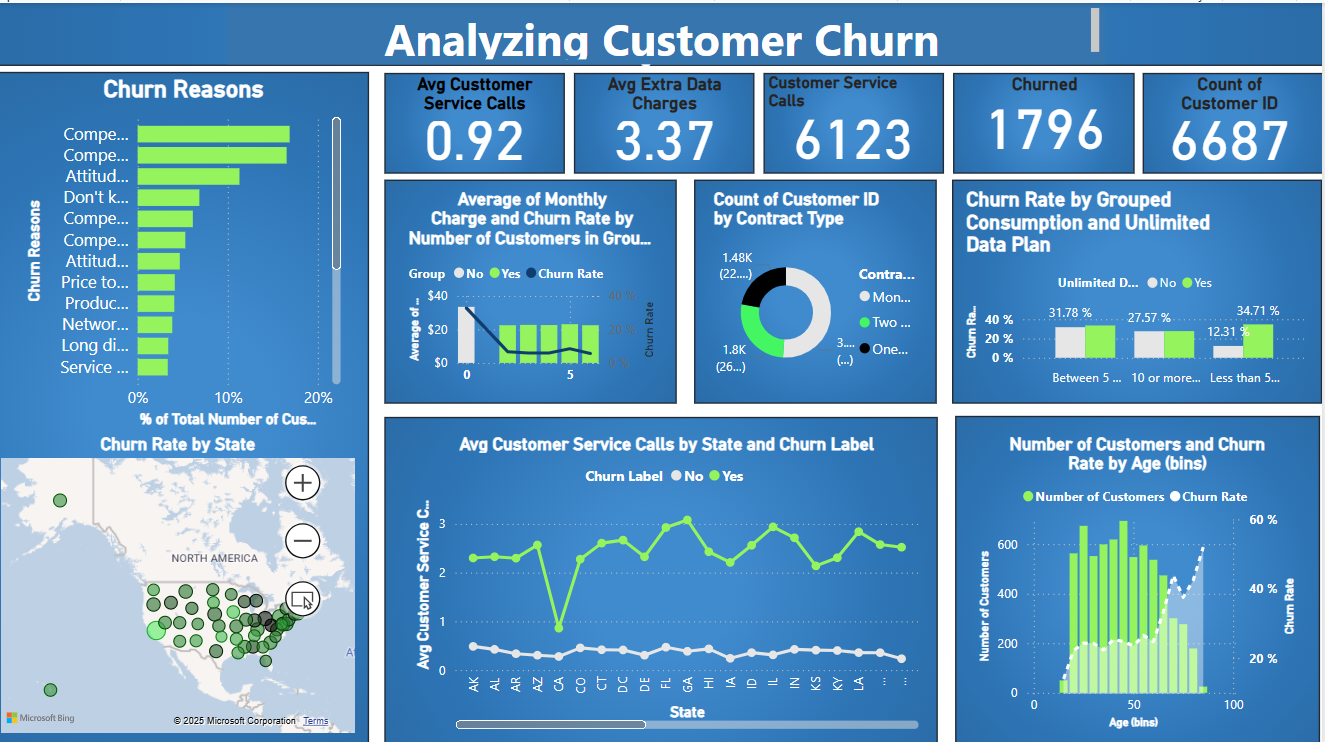

This screenshot's page, from the dashboard's own definition file:
{"tool":"powerbi","page":{"name":"Page 1","canvas":[1280,720],"ordinal":0},"visuals":[{"type":"clusteredBarChart","title":"Churn Reasons","fields":{"Category":["Databel - Data.Churn Reason"],"Y":["CountNonNull(Databel - Data.Number of Customers in Group)"]},"box":[24.1,68.8,313.7,346.2],"z":0},{"type":"clusteredColumnChart","fields":{"Category":["Databel - Data.Grouped Consumption"],"Y":["Databel - Data.Churn Rate"],"Series":["Databel - Data.Unlimited Data Plan"]},"box":[931.4,178.6,340.2,199.1],"z":1000},{"type":"lineStackedColumnComboChart","fields":{"Category":["Databel - Data.Age (bins)"],"Y":["Databel - Data.Number of costumers"],"Y2":["Databel - Data.Churn Rate"]},"box":[943.4,415,316.1,290.8],"z":2000},{"type":"lineChart","fields":{"Category":["Databel - Data.State"],"Y":["Databel - Data.Avg Customer Service Calls"],"Series":["Databel - Data.Churn Label"]},"box":[399.3,415,495.8,290.8],"z":3000},{"type":"lineStackedColumnComboChart","fields":{"Category":["Databel - Data.Number of Customers in Group"],"Y":["Avg(Databel - Data.Monthly Charge)"],"Series":["Databel - Data.Group"],"Y2":["Databel - Data.Churn Rate"]},"box":[393.3,178.6,248.5,199.1],"z":4000},{"type":"donutChart","fields":{"Y":["Count(Databel - Data.Customer ID)"],"Category":["Databel - Data.Contract Type"]},"box":[687.7,178.6,209.9,199.1],"z":5000},{"type":"card","title":"Count of Customer ID","fields":{"Values":["Count(Databel - Data.Customer ID)"]},"box":[1101.5,67.6,178.6,96.5],"z":6000},{"type":"card","title":"Churned","fields":{"Values":["Sum(Databel - Data.Churned)"]},"box":[922.9,67.6,178.6,96.5],"z":7000},{"type":"card","title":"Customer Service Calls","fields":{"Values":["Sum(Databel - Data.Customer Service Calls)"]},"box":[740.8,67.6,173.7,96.5],"z":8000},{"type":"card","title":"Avg Extra Data Charges","fields":{"Values":["Databel - Data.Avg Extra Data Charges"]},"box":[559.8,67.6,171.3,96.5],"z":9000},{"type":"card","title":"Avg Custtomer Service Calls","fields":{"Values":["Databel - Data.Avg Customer Service Calls"]},"box":[376.4,67.6,171.3,96.5],"z":10000},{"type":"textbox","box":[223.2,0,846.9,59.1],"z":11000},{"type":"map","fields":{"Category":["Databel - Data.State"],"Size":["Databel - Data.Churn Rate"]},"box":[0,415,351.1,294.4],"z":11001}]}

Visuals, with their boxes in screenshot pixels (x1, y1, x2, y2), scaled from the page's 1280x720 canvas onto the 1325x742 screenshot:
"Churn Reasons" clusteredBarChart: Rect(25, 71, 350, 428)
clusteredColumnChart - Databel - Data.Grouped Consumption x Databel - Data.Churn Rate: Rect(964, 184, 1316, 389)
lineStackedColumnComboChart - Databel - Data.Age (bins) x Databel - Data.Number of costumers: Rect(977, 428, 1304, 727)
lineChart - Databel - Data.State x Databel - Data.Avg Customer Service Calls: Rect(413, 428, 927, 727)
lineStackedColumnComboChart - Databel - Data.Number of Customers in Group x Avg(Databel - Data.Monthly Charge): Rect(407, 184, 664, 389)
donutChart - Count(Databel - Data.Customer ID) x Databel - Data.Contract Type: Rect(712, 184, 929, 389)
"Count of Customer ID" card: Rect(1140, 70, 1324, 169)
"Churned" card: Rect(955, 70, 1140, 169)
"Customer Service Calls" card: Rect(767, 70, 947, 169)
"Avg Extra Data Charges" card: Rect(579, 70, 757, 169)
"Avg Custtomer Service Calls" card: Rect(390, 70, 567, 169)
textbox: Rect(231, 0, 1108, 61)
map - Databel - Data.State x Databel - Data.Churn Rate: Rect(0, 428, 363, 731)
